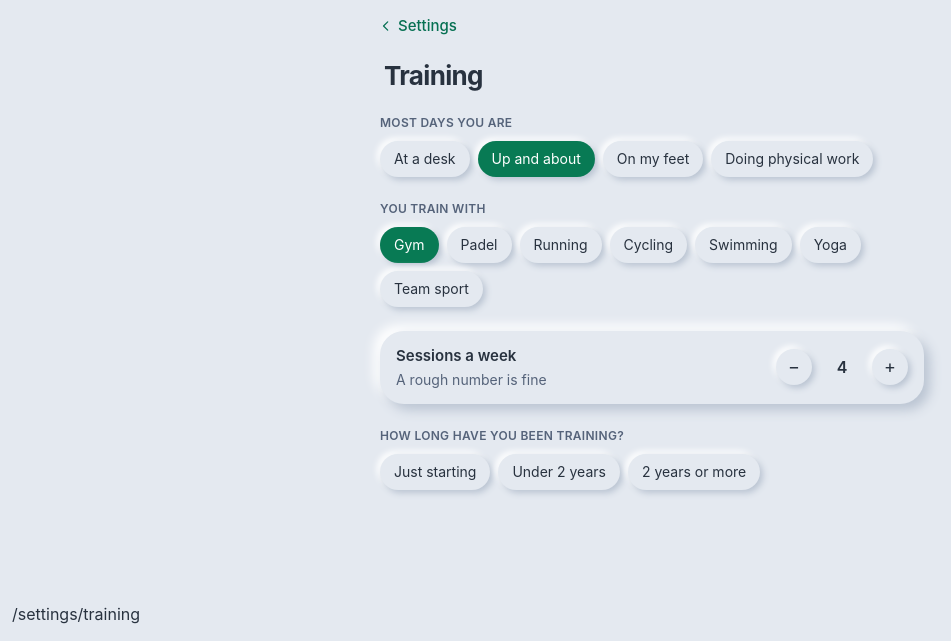
Settings pages › says when a change didn't save
Click the button "Padel": point(479, 245) [447,227,512,263]
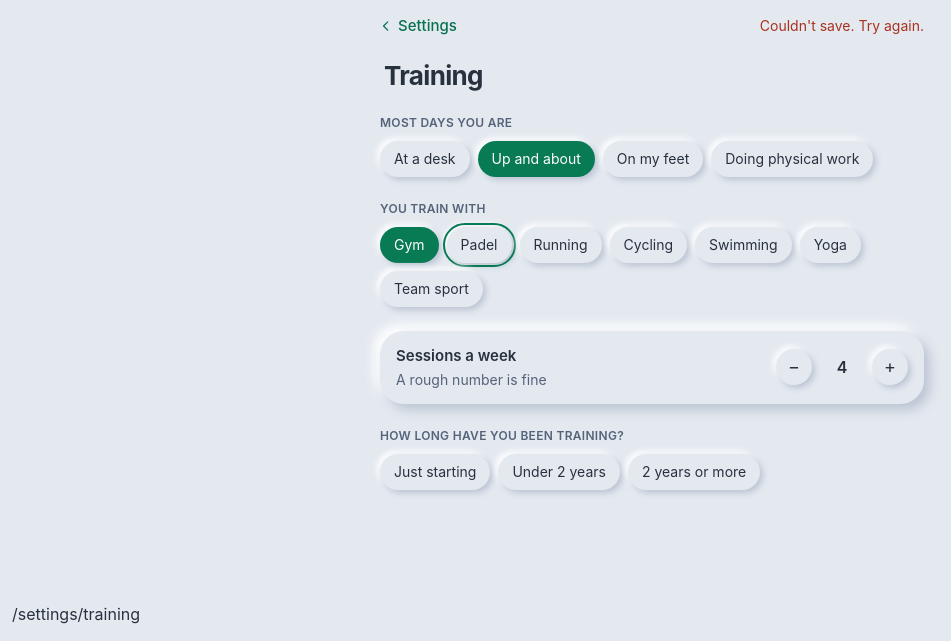
expect the text "Couldn't save. Try again." is shown: met, box [760,16,924,36]
